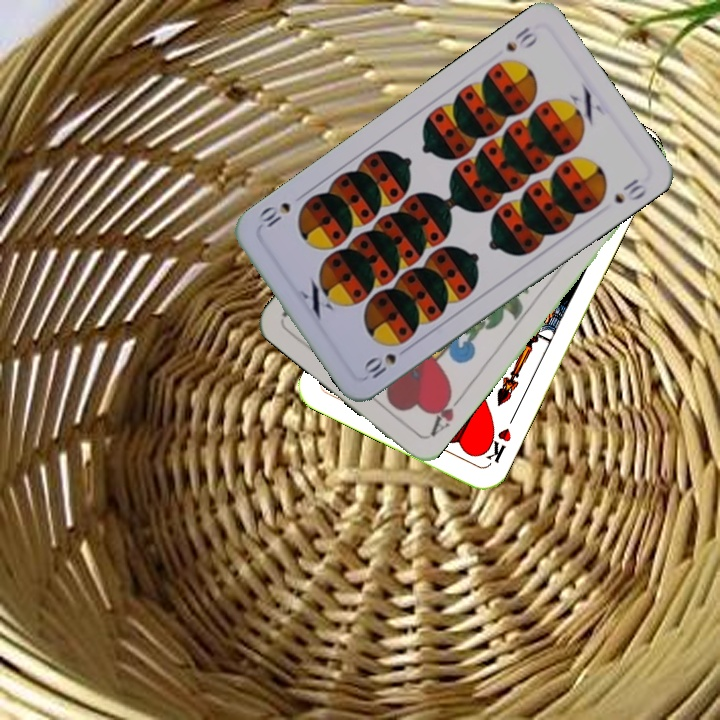HA: (426, 386, 467, 439)
HK: (477, 424, 514, 467)
S10: (360, 349, 399, 382), (502, 23, 540, 55)
